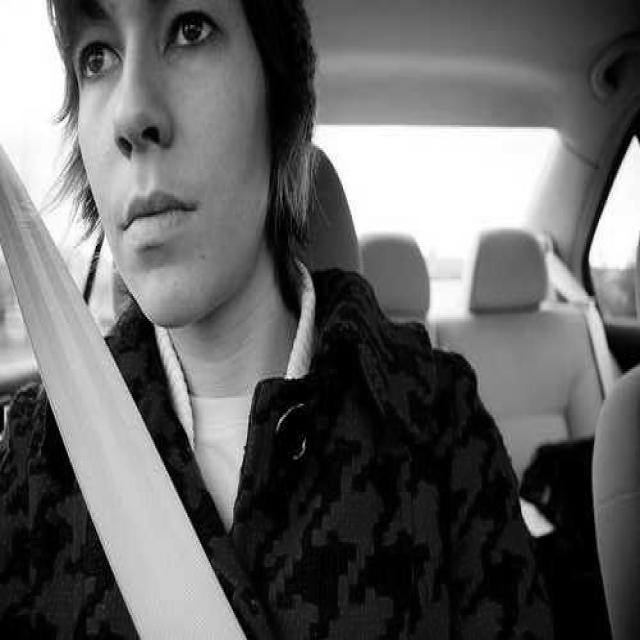Seatbelt: (17, 248, 247, 640)
